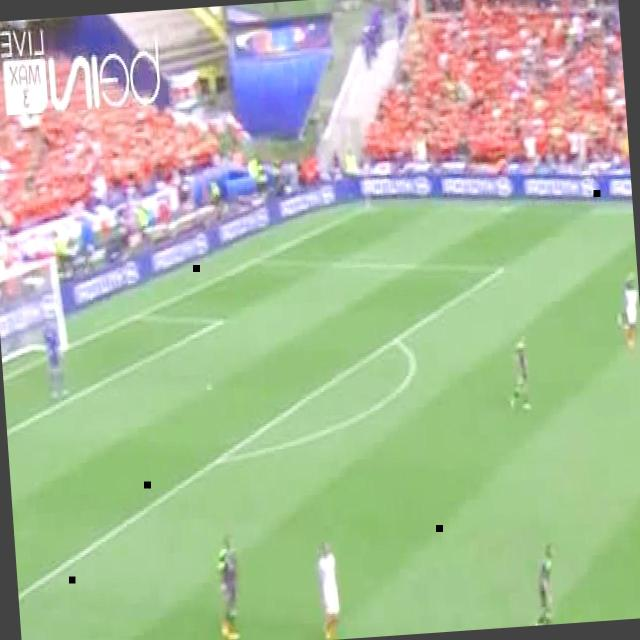player-white: (212, 532, 242, 640), (526, 544, 560, 626), (612, 268, 640, 352), (317, 539, 340, 640), (506, 336, 533, 415), (43, 315, 67, 403)
